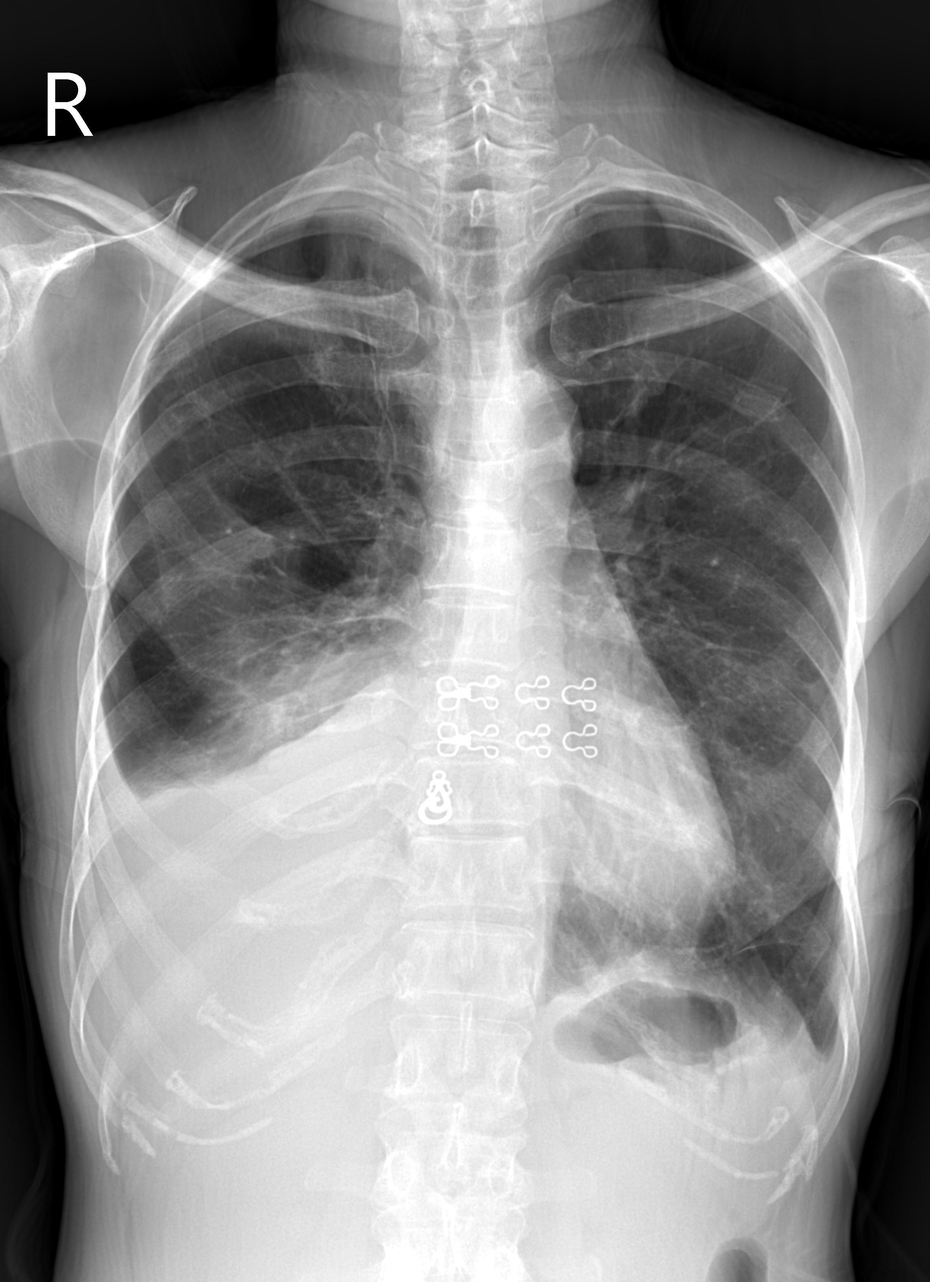Pleural thickening: (253, 187, 424, 233), (804, 1020, 859, 1118)
